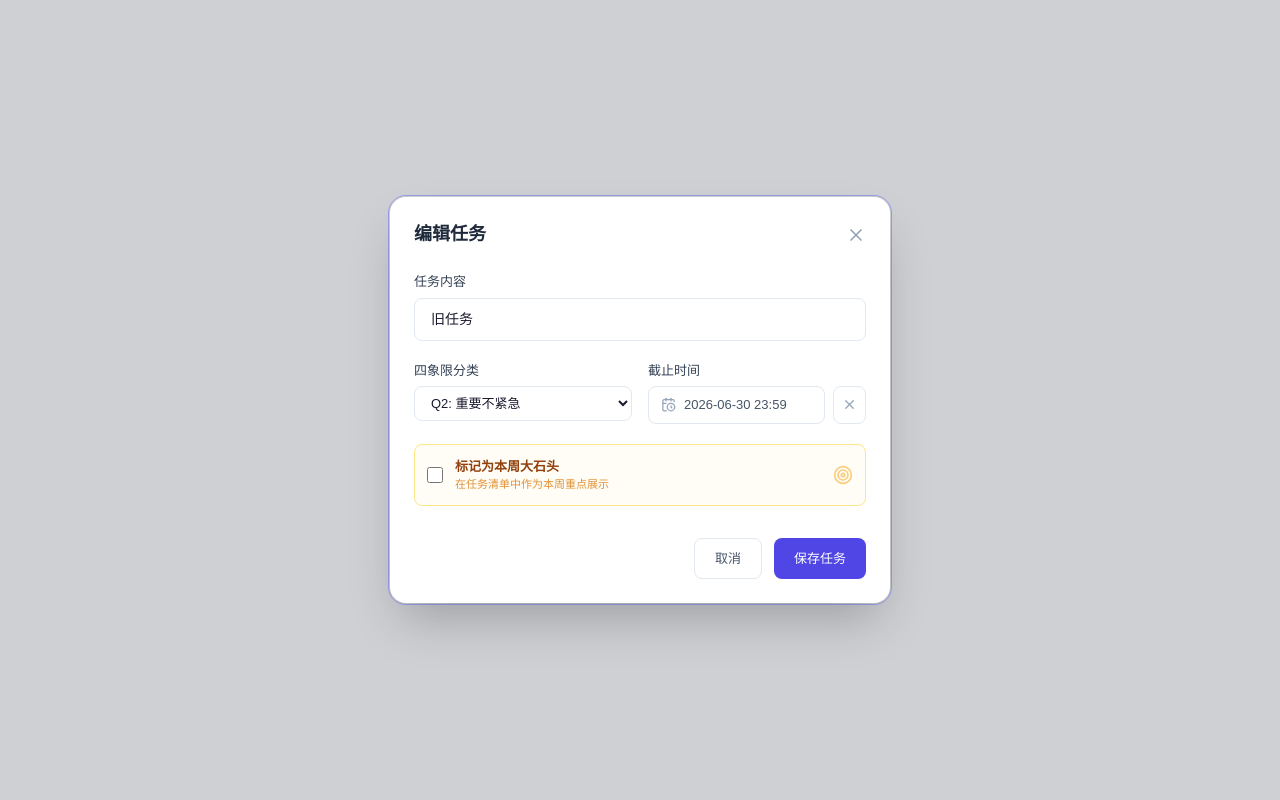
Test: TaskModal › 重新打开已有截止时间时保留日期、小时和分钟
Click the button named "截止时间".
click(736, 405)  # box [648,386,825,424]
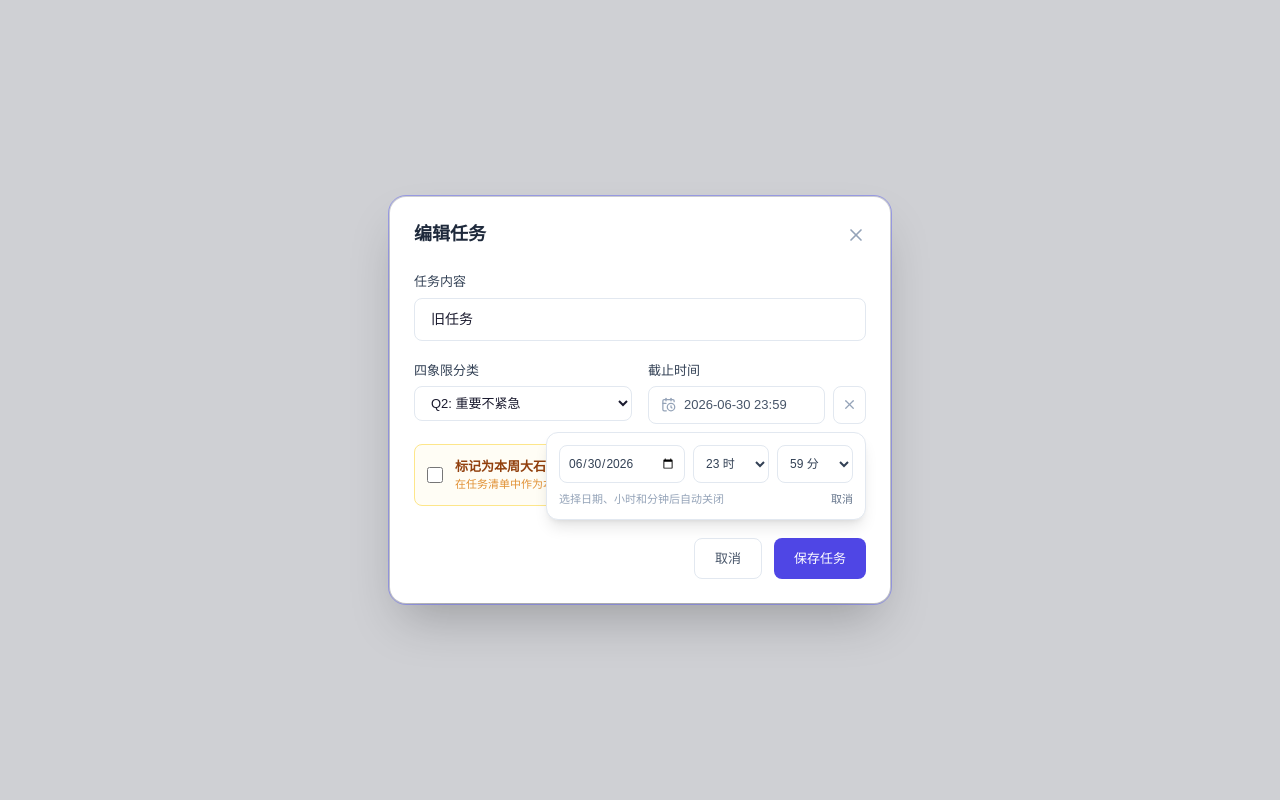
Check: the date field named "截止日期" holds "2026-06-30", box [559,444,685,482]
Check: the dropdown named "截止小时" shows "23 时", box [693,444,769,482]
Check: the dropdown named "截止分钟" shows "59 分", box [777,444,853,482]
